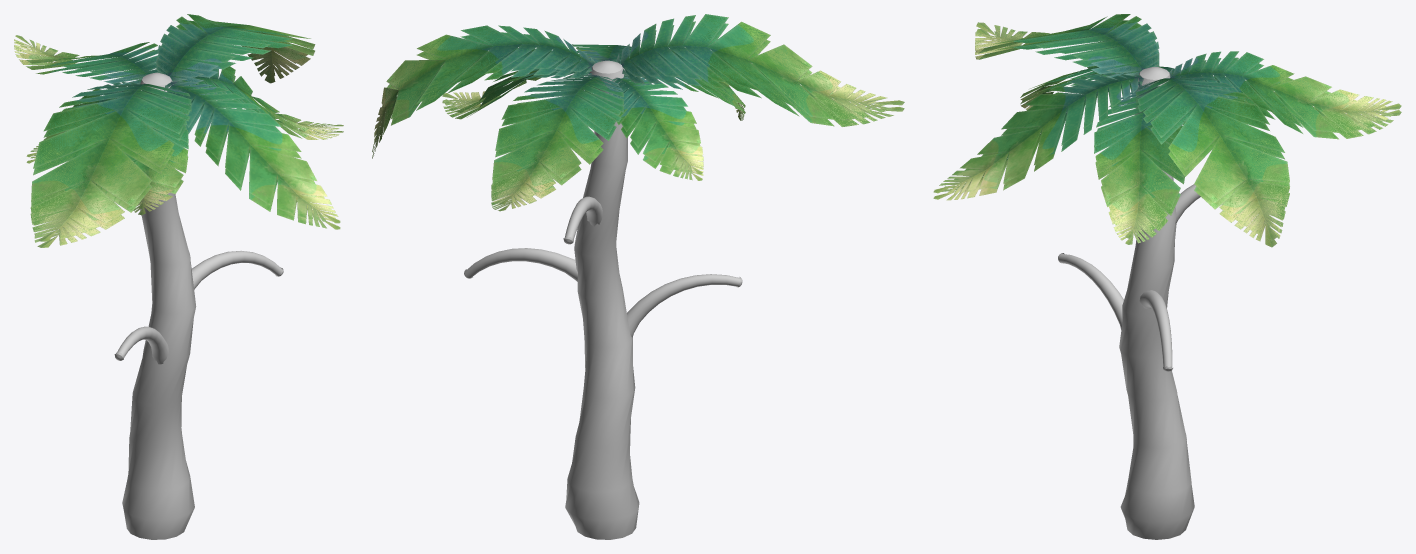
Rendered from tropicalTree3.fbx.
3 renders of one model, left to right at view 1: azimuth 30°, elevation 25°; view 2: azimuth 150°, elevation 25°; view 3: azimuth 270°, elevation 25°, orthographic. The views are drawn at different scales.
Visible parts, largest first — view 1: tree7; view 2: tree7; view 3: tree7.
Part boxes in pixels (<box>): tree7: <box>14,14,343,539</box>; tree7: <box>372,14,904,539</box>; tree7: <box>933,14,1401,539</box>.
Bounding box in the file's own units: 4.55 × 5.19 × 4.68.
